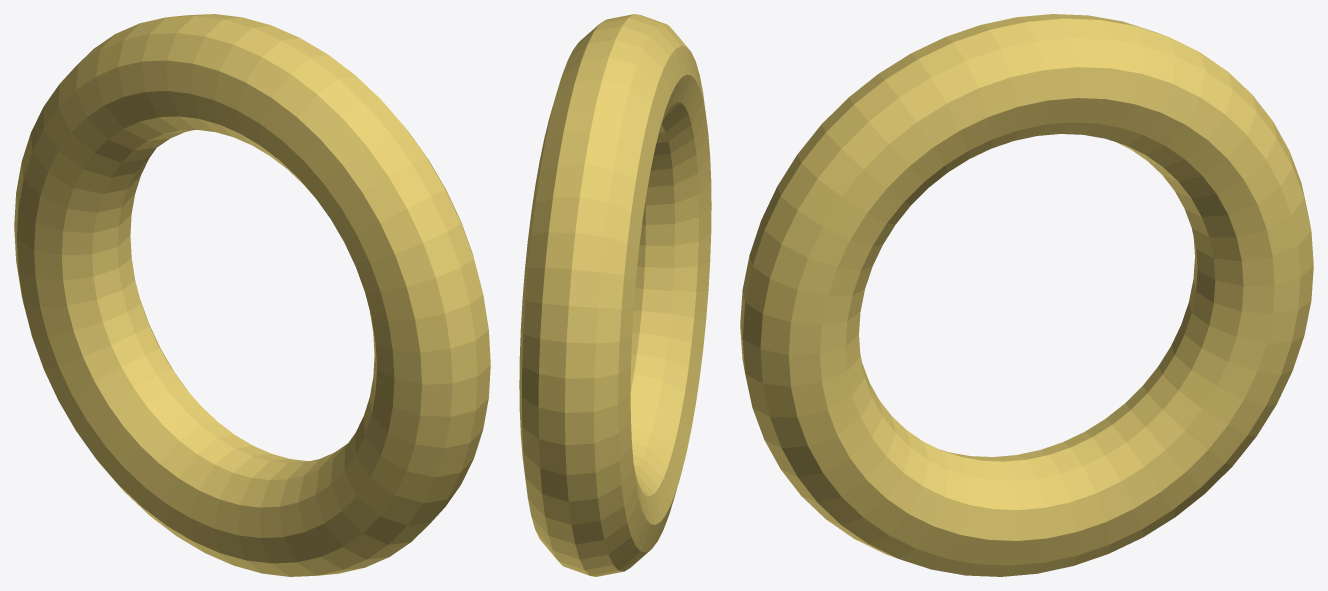
Rendered from anillo1.fbx.
3 views of the same model, side by side, from view 1: azimuth 30°, elevation 25°; view 2: azimuth 150°, elevation 25°; view 3: azimuth 270°, elevation 25° (orthographic). The views are drawn at different scales.
Visible parts, largest first — view 1: Torus; view 2: Torus; view 3: Torus.
Boxes of the visible parts, box(x1,y1,x2,y2) form: Torus: box(14, 14, 490, 576); Torus: box(519, 14, 711, 576); Torus: box(740, 14, 1313, 576).
Bounding box in the file's own units: 117 × 250 × 238.
